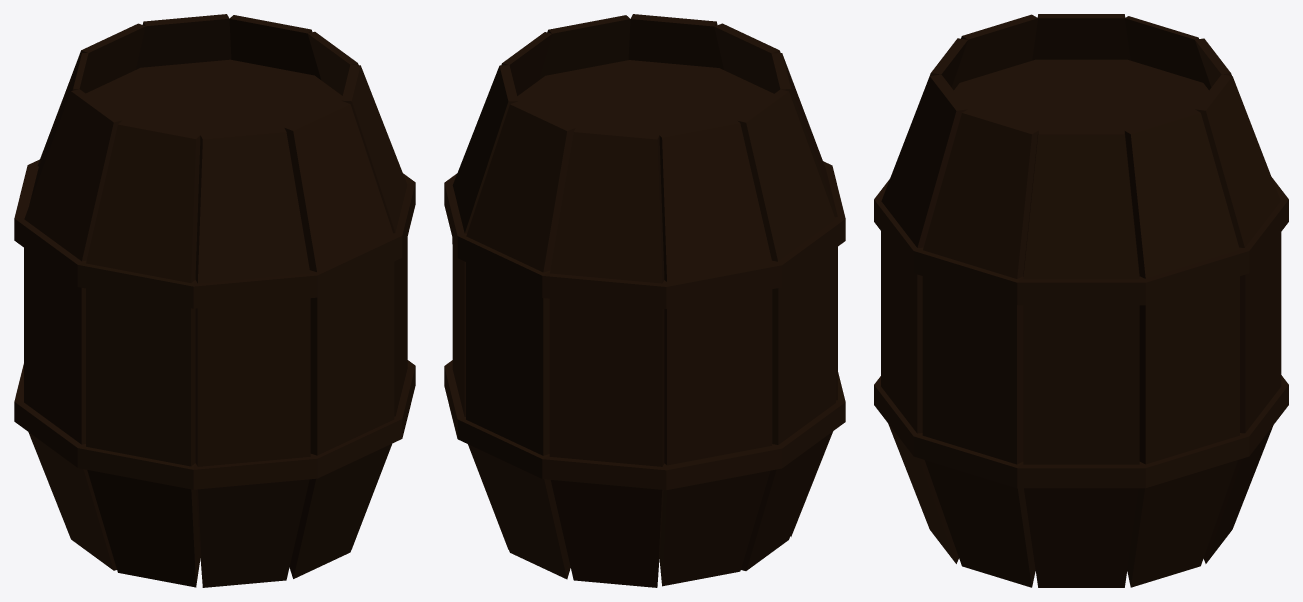
File: wooden barrel.fbx
3 renders of one model, left to right at view 1: azimuth 30°, elevation 25°; view 2: azimuth 150°, elevation 25°; view 3: azimuth 270°, elevation 25°, orthographic.
Visible parts, largest first — view 1: Wooden_Barrell; view 2: Wooden_Barrell; view 3: Wooden_Barrell.
Part boxes in pixels (x1,y1,x2,y2): Wooden_Barrell: (14,14,415,587); Wooden_Barrell: (444,14,845,587); Wooden_Barrell: (874,14,1288,587).
Size of the model in its own units: 109 by 139 by 115.
